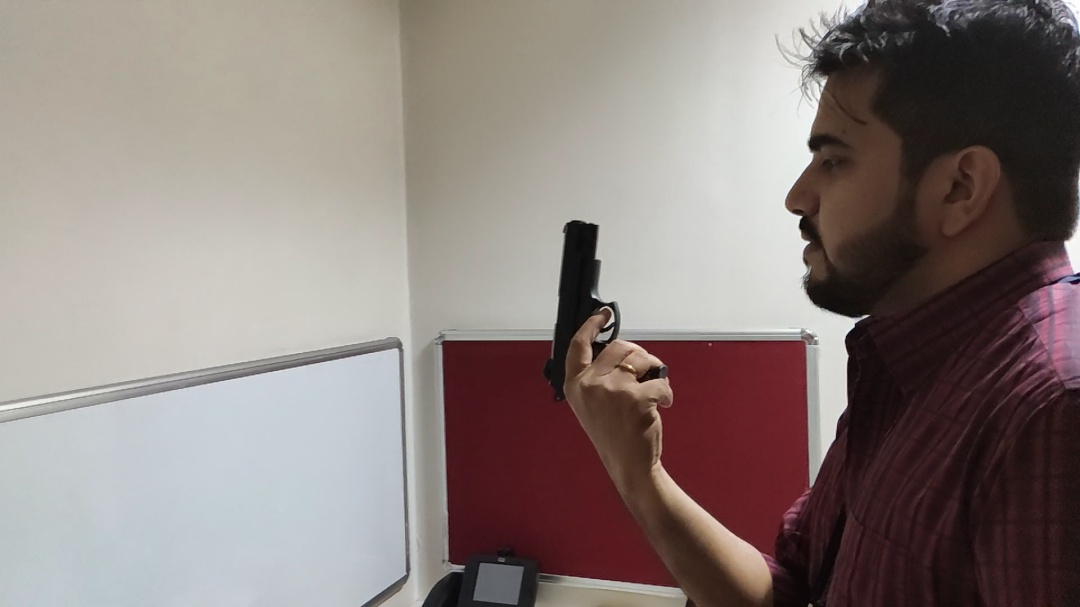gun: (541, 220, 670, 406)
